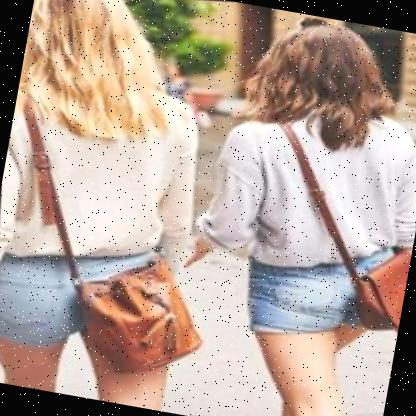bag: (62, 235, 223, 388)
person: (168, 2, 416, 416), (0, 0, 245, 413)
